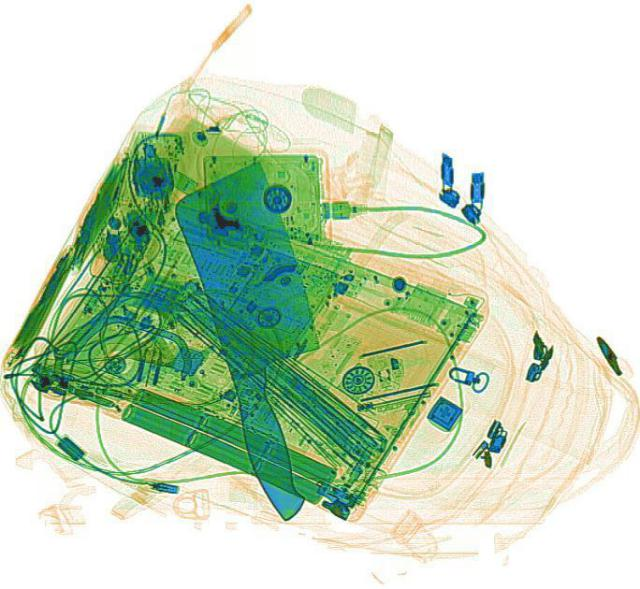Knife: (162, 158, 370, 521)
